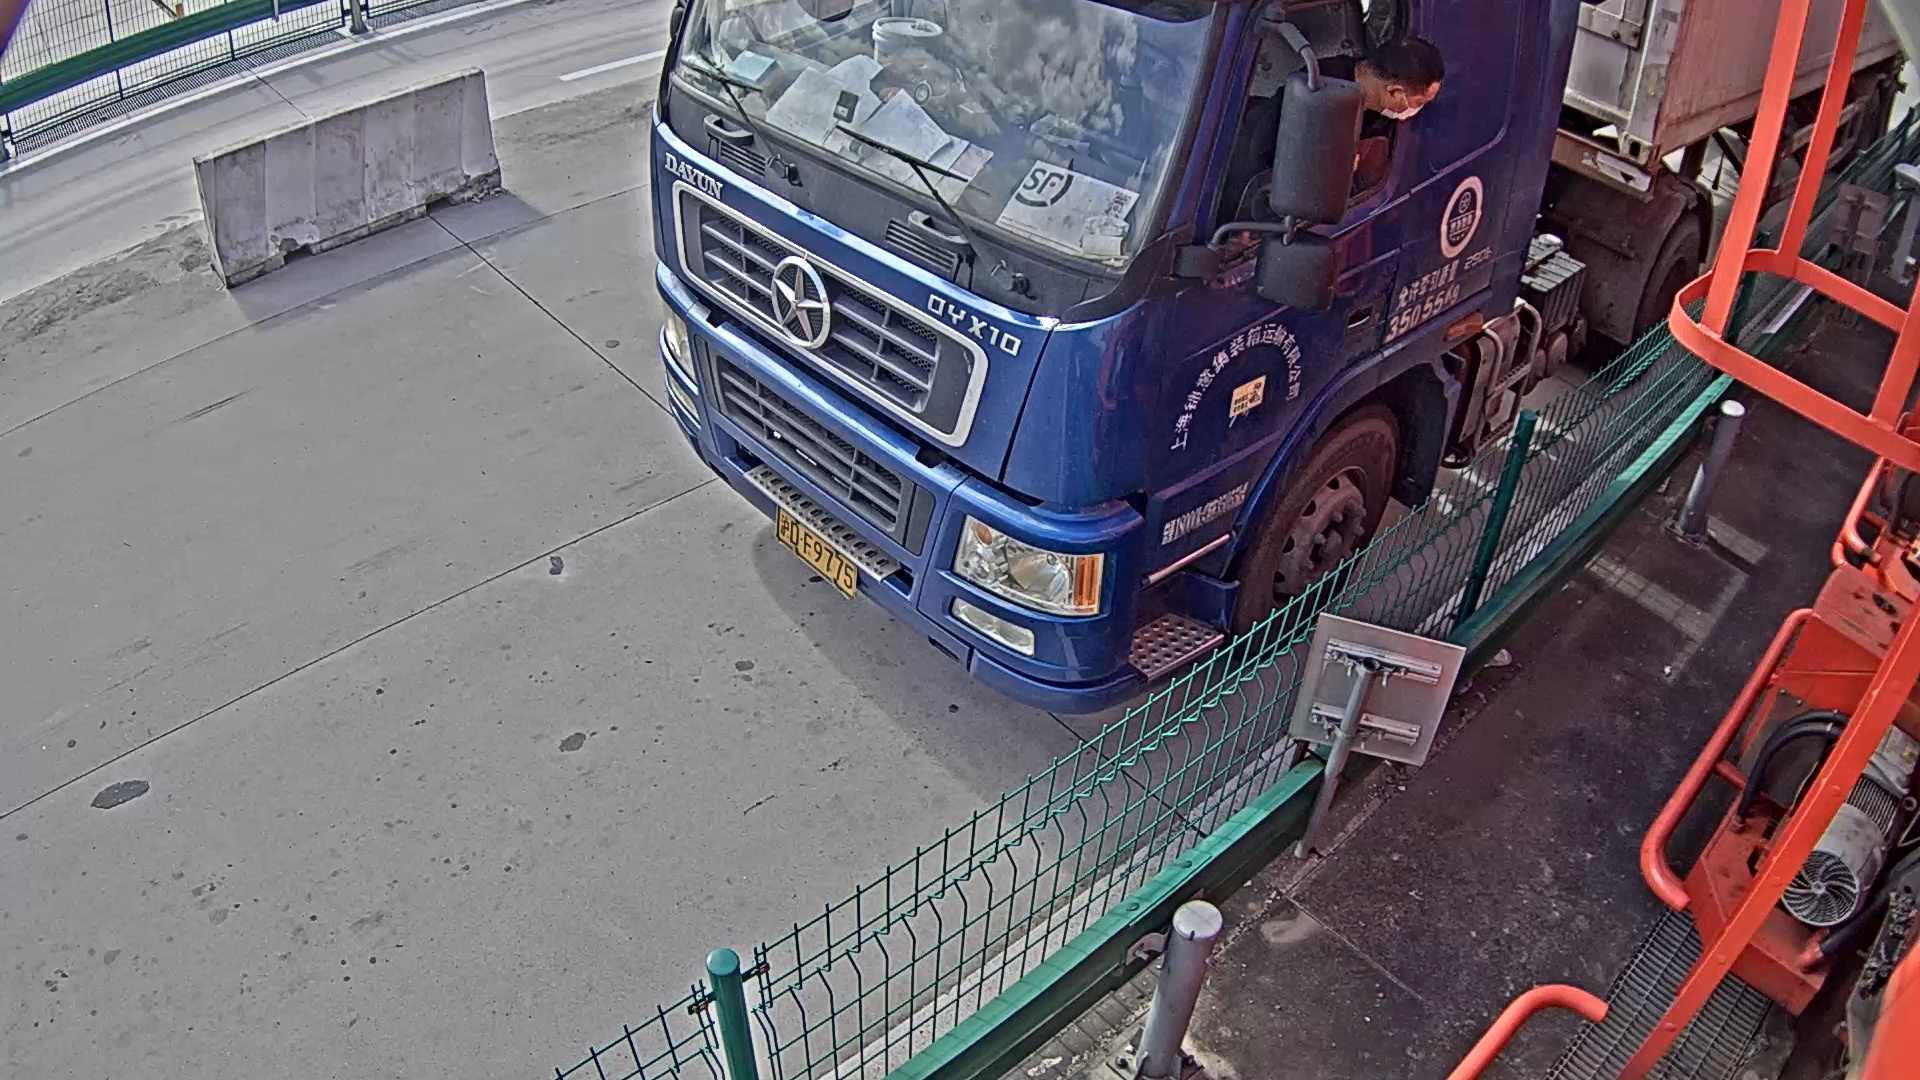head: (650, 1, 1579, 687)
plate: (771, 500, 857, 602)
